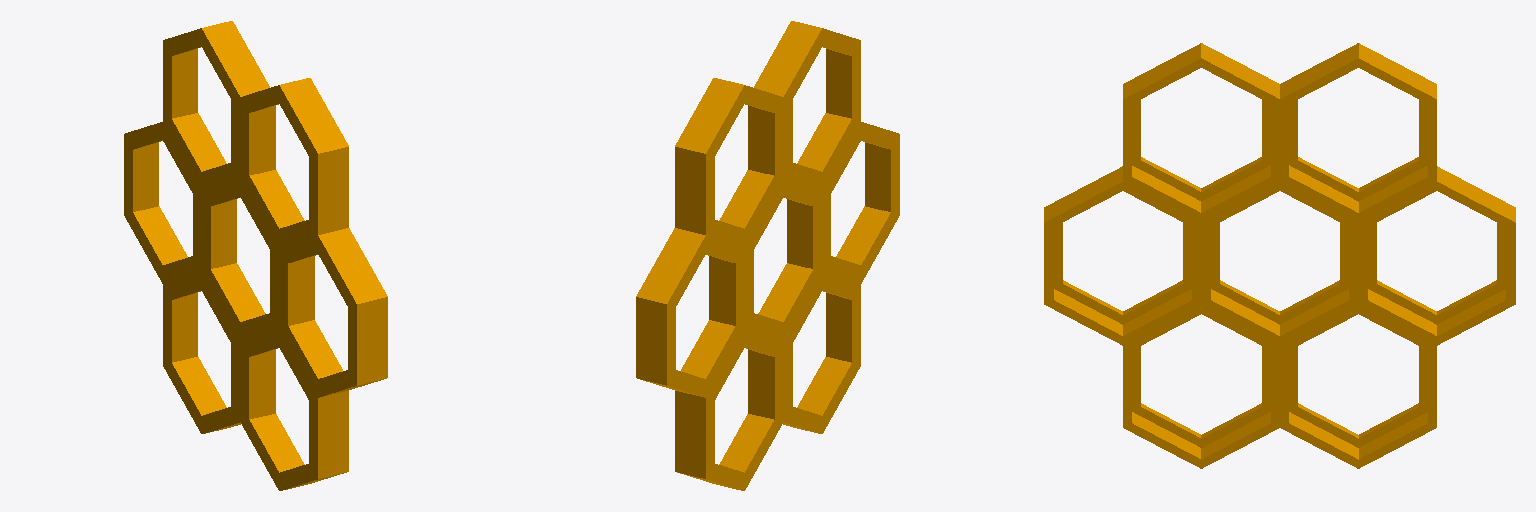
robot.urdf — Honeycomb_Panel:
<?xml version='1.0' encoding='utf-8'?>
<robot name="Honeycomb_Panel">
  <link name="Honeycomb_Panel">
    <inertial><origin xyz="0.000000 0.000000 0.000010" rpy="0 0 0" /><mass value="0.0050" /><inertia ixx="1e-06" ixy="0" ixz="0" iyy="1e-06" iyz="0" izz="1e-06" /></inertial><visual>
      <origin xyz="0.000000 0.000000 0.000000" rpy="0. 1.5707963 0. " />
      <geometry>
        <mesh filename="meshes/tn__Hexagono_Suporte1_bX0_Corpo1_Mesh.obj" scale="0.001000 0.001000 0.001000" />
      </geometry>
    </visual>
    <visual>
      <origin xyz="0.000000 0.086603 0.000000" rpy="0. 1.5707963 0. " />
      <geometry>
        <mesh filename="meshes/tn__Hexagono_Suporte2_bX0_Corpo1_Mesh.obj" scale="0.001000 0.001000 0.001000" />
      </geometry>
    </visual>
    <visual>
      <origin xyz="0.000000 0.043301 0.075000" rpy="1.5707964 0.5235988 1.5707964" />
      <geometry>
        <mesh filename="meshes/tn__Hexagono_Suporte3_bX0_Corpo1_Mesh.obj" scale="0.001000 0.001000 0.001000" />
      </geometry>
    </visual>
    <visual>
      <origin xyz="0.000000 -0.043301 0.075000" rpy="1.5707964 -0.5235988 1.5707964" />
      <geometry>
        <mesh filename="meshes/tn__Hexagono_Suporte4_bX0_Corpo1_Mesh.obj" scale="0.001000 0.001000 0.001000" />
      </geometry>
    </visual>
    <visual>
      <origin xyz="0.000000 -0.086603 0.000000" rpy="-3.1415927 -1.5707963 0. " />
      <geometry>
        <mesh filename="meshes/tn__Hexagono_Suporte5_bX0_Corpo1_Mesh.obj" scale="0.001000 0.001000 0.001000" />
      </geometry>
    </visual>
    <visual>
      <origin xyz="-0.000000 -0.043301 -0.075000" rpy="-1.5707964 -0.5235988 -1.5707964" />
      <geometry>
        <mesh filename="meshes/tn__Hexagono_Suporte6_bX0_Corpo1_Mesh.obj" scale="0.001000 0.001000 0.001000" />
      </geometry>
    </visual>
    <visual>
      <origin xyz="-0.000000 0.043301 -0.075000" rpy="-1.5707964 0.5235988 -1.5707964" />
      <geometry>
        <mesh filename="meshes/tn__Hexagono_Suporte7_bX0_Corpo1_Mesh.obj" scale="0.001000 0.001000 0.001000" />
      </geometry>
    </visual>
  <collision><origin xyz="0.000000 0.000000 0.000000" rpy="0. 1.5707963 0. " /><geometry><mesh filename="meshes/tn__Hexagono_Suporte1_bX0_Corpo1_Mesh.obj" scale="0.001000 0.001000 0.001000" /></geometry></collision><collision><origin xyz="0.000000 0.086603 0.000000" rpy="0. 1.5707963 0. " /><geometry><mesh filename="meshes/tn__Hexagono_Suporte2_bX0_Corpo1_Mesh.obj" scale="0.001000 0.001000 0.001000" /></geometry></collision><collision><origin xyz="0.000000 0.043301 0.075000" rpy="1.5707964 0.5235988 1.5707964" /><geometry><mesh filename="meshes/tn__Hexagono_Suporte3_bX0_Corpo1_Mesh.obj" scale="0.001000 0.001000 0.001000" /></geometry></collision><collision><origin xyz="0.000000 -0.043301 0.075000" rpy="1.5707964 -0.5235988 1.5707964" /><geometry><mesh filename="meshes/tn__Hexagono_Suporte4_bX0_Corpo1_Mesh.obj" scale="0.001000 0.001000 0.001000" /></geometry></collision><collision><origin xyz="0.000000 -0.086603 0.000000" rpy="-3.1415927 -1.5707963 0. " /><geometry><mesh filename="meshes/tn__Hexagono_Suporte5_bX0_Corpo1_Mesh.obj" scale="0.001000 0.001000 0.001000" /></geometry></collision><collision><origin xyz="-0.000000 -0.043301 -0.075000" rpy="-1.5707964 -0.5235988 -1.5707964" /><geometry><mesh filename="meshes/tn__Hexagono_Suporte6_bX0_Corpo1_Mesh.obj" scale="0.001000 0.001000 0.001000" /></geometry></collision><collision><origin xyz="-0.000000 0.043301 -0.075000" rpy="-1.5707964 0.5235988 -1.5707964" /><geometry><mesh filename="meshes/tn__Hexagono_Suporte7_bX0_Corpo1_Mesh.obj" scale="0.001000 0.001000 0.001000" /></geometry></collision></link>
</robot>

--- Render facts (derived) ---
The picture shows the robot from 3 angles, left to right: view 1: azimuth 30°, elevation 25°; view 2: azimuth 150°, elevation 25°; view 3: azimuth 270°, elevation 25°; orthographic projection.
Model Honeycomb_Panel with 1 links and 0 joints (none), rooted at Honeycomb_Panel, posed every joint at zero.
Links seen in each view (by area): view 1: Honeycomb_Panel; view 2: Honeycomb_Panel; view 3: Honeycomb_Panel.
Link boxes in pixels (x1,y1,x2,y2): Honeycomb_Panel: (124, 21, 387, 490); Honeycomb_Panel: (636, 21, 899, 490); Honeycomb_Panel: (1044, 43, 1515, 468).
Bounding box of the posed robot: 0.02 × 0.2598 × 0.25 m (x, y, z).
Meshes: 7 distinct files referenced, 7 mesh visuals loaded (7 OBJ).
